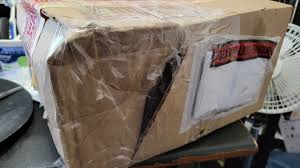damaged package: (127, 39, 193, 165), (40, 7, 102, 74)
